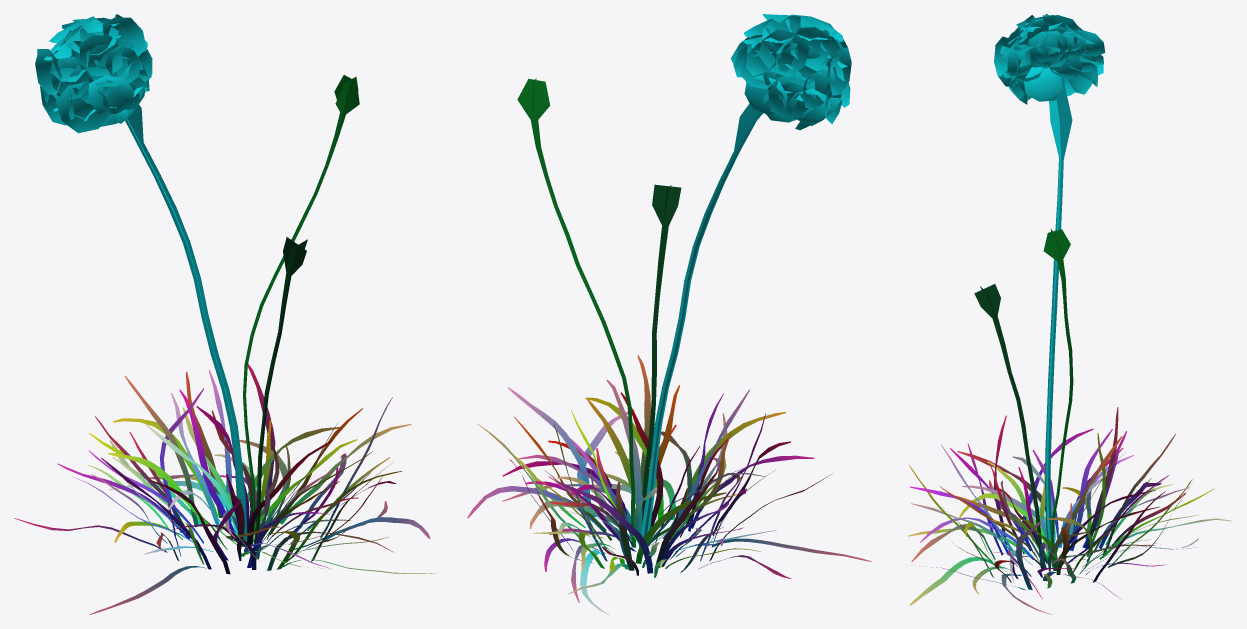
Rendered from Sea_Thrift_vkbgaihha_High_vkbgaihha_VarF_LOD0.fbx.
3 renders of one model, left to right at view 1: azimuth 30°, elevation 25°; view 2: azimuth 150°, elevation 25°; view 3: azimuth 270°, elevation 25°, orthographic. The views are drawn at different scales.
Parts seen in each view (by area): view 1: _08kw_VarF_LOD0; view 2: _08kw_VarF_LOD0; view 3: _08kw_VarF_LOD0.
Part boxes in pixels (x1,y1,x2,y2): _08kw_VarF_LOD0: (14, 14, 438, 614); _08kw_VarF_LOD0: (467, 14, 871, 614); _08kw_VarF_LOD0: (908, 14, 1232, 614).
Size of the model in its own units: 10.64 by 15.85 by 9.77.
